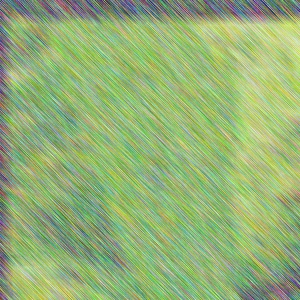Bacterial_Leaf_Blight: (168, 108, 188, 122), (200, 272, 218, 287), (188, 127, 208, 140), (148, 27, 167, 39), (192, 153, 209, 165), (173, 83, 189, 95), (149, 195, 164, 207), (177, 197, 192, 209), (201, 74, 217, 85), (171, 176, 185, 188), (192, 240, 207, 251), (117, 224, 129, 237), (163, 228, 177, 239), (140, 146, 153, 157), (168, 184, 179, 196), (147, 235, 158, 245), (128, 82, 141, 90), (123, 38, 133, 48), (120, 78, 131, 87), (146, 100, 158, 108), (148, 95, 156, 102)
